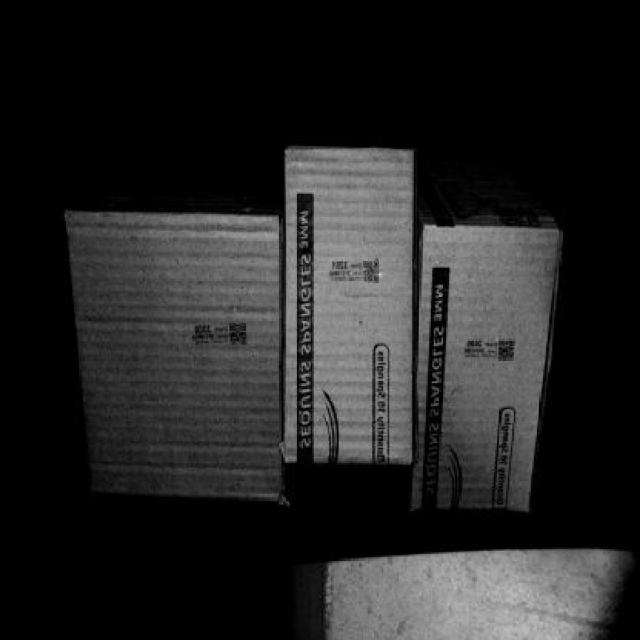cardboxes: (82, 222, 280, 489), (280, 153, 414, 464), (412, 232, 559, 514)
